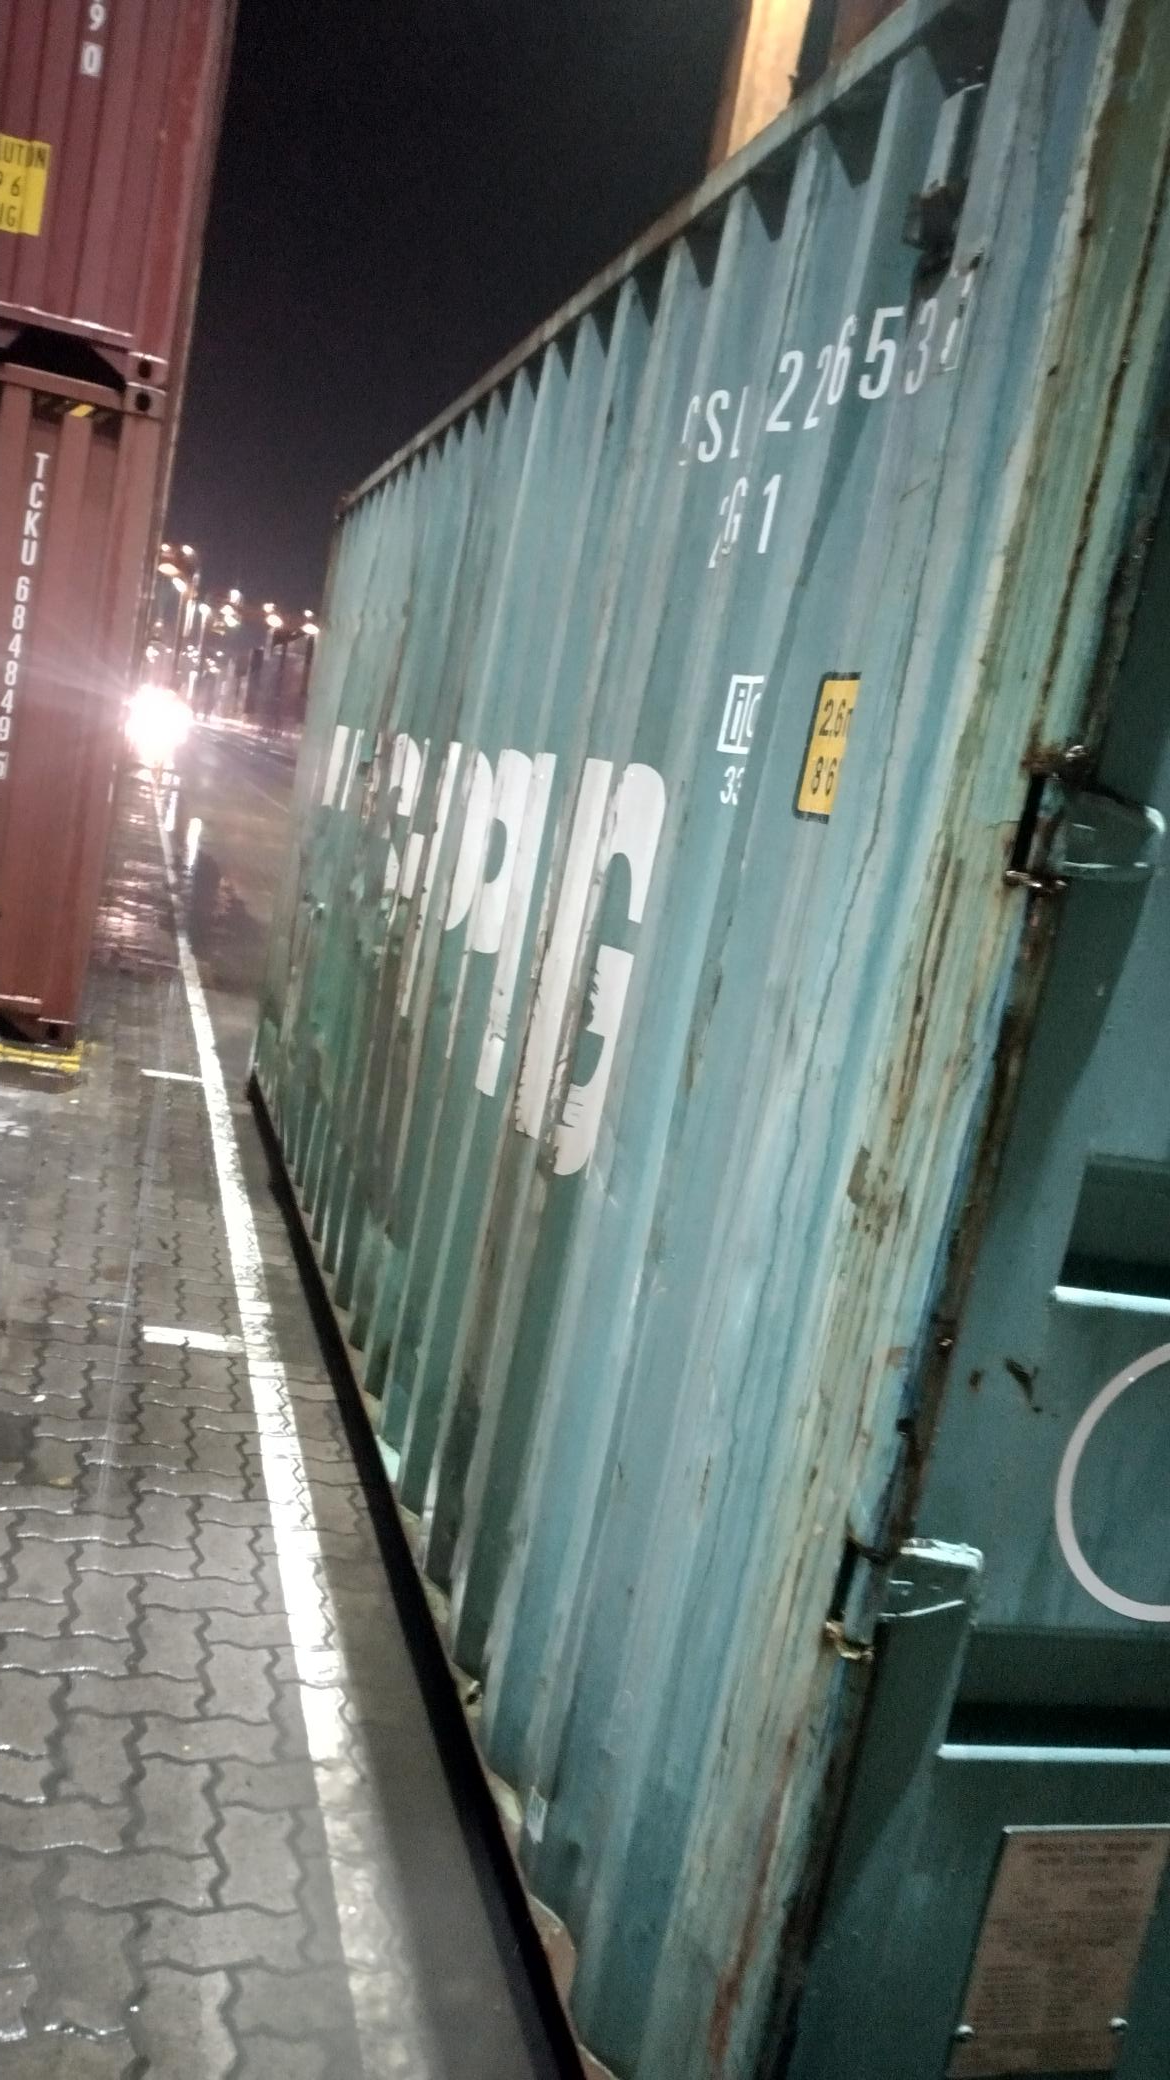cut: (834, 50, 1014, 364)
